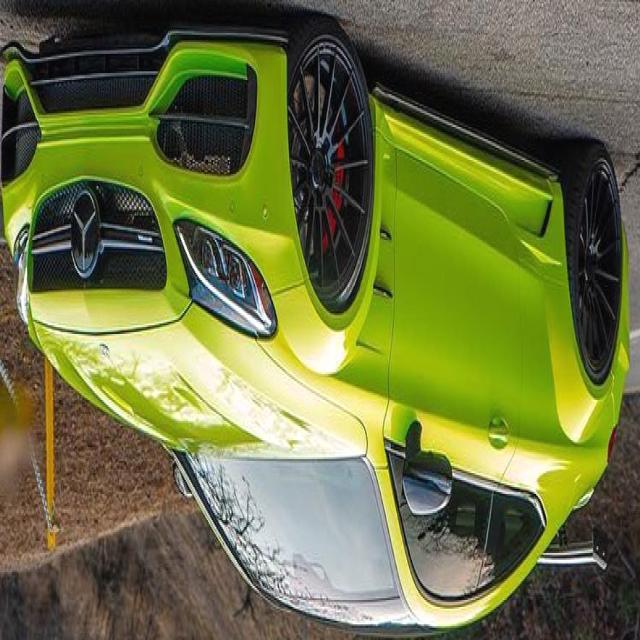green: (3, 16, 631, 630)
